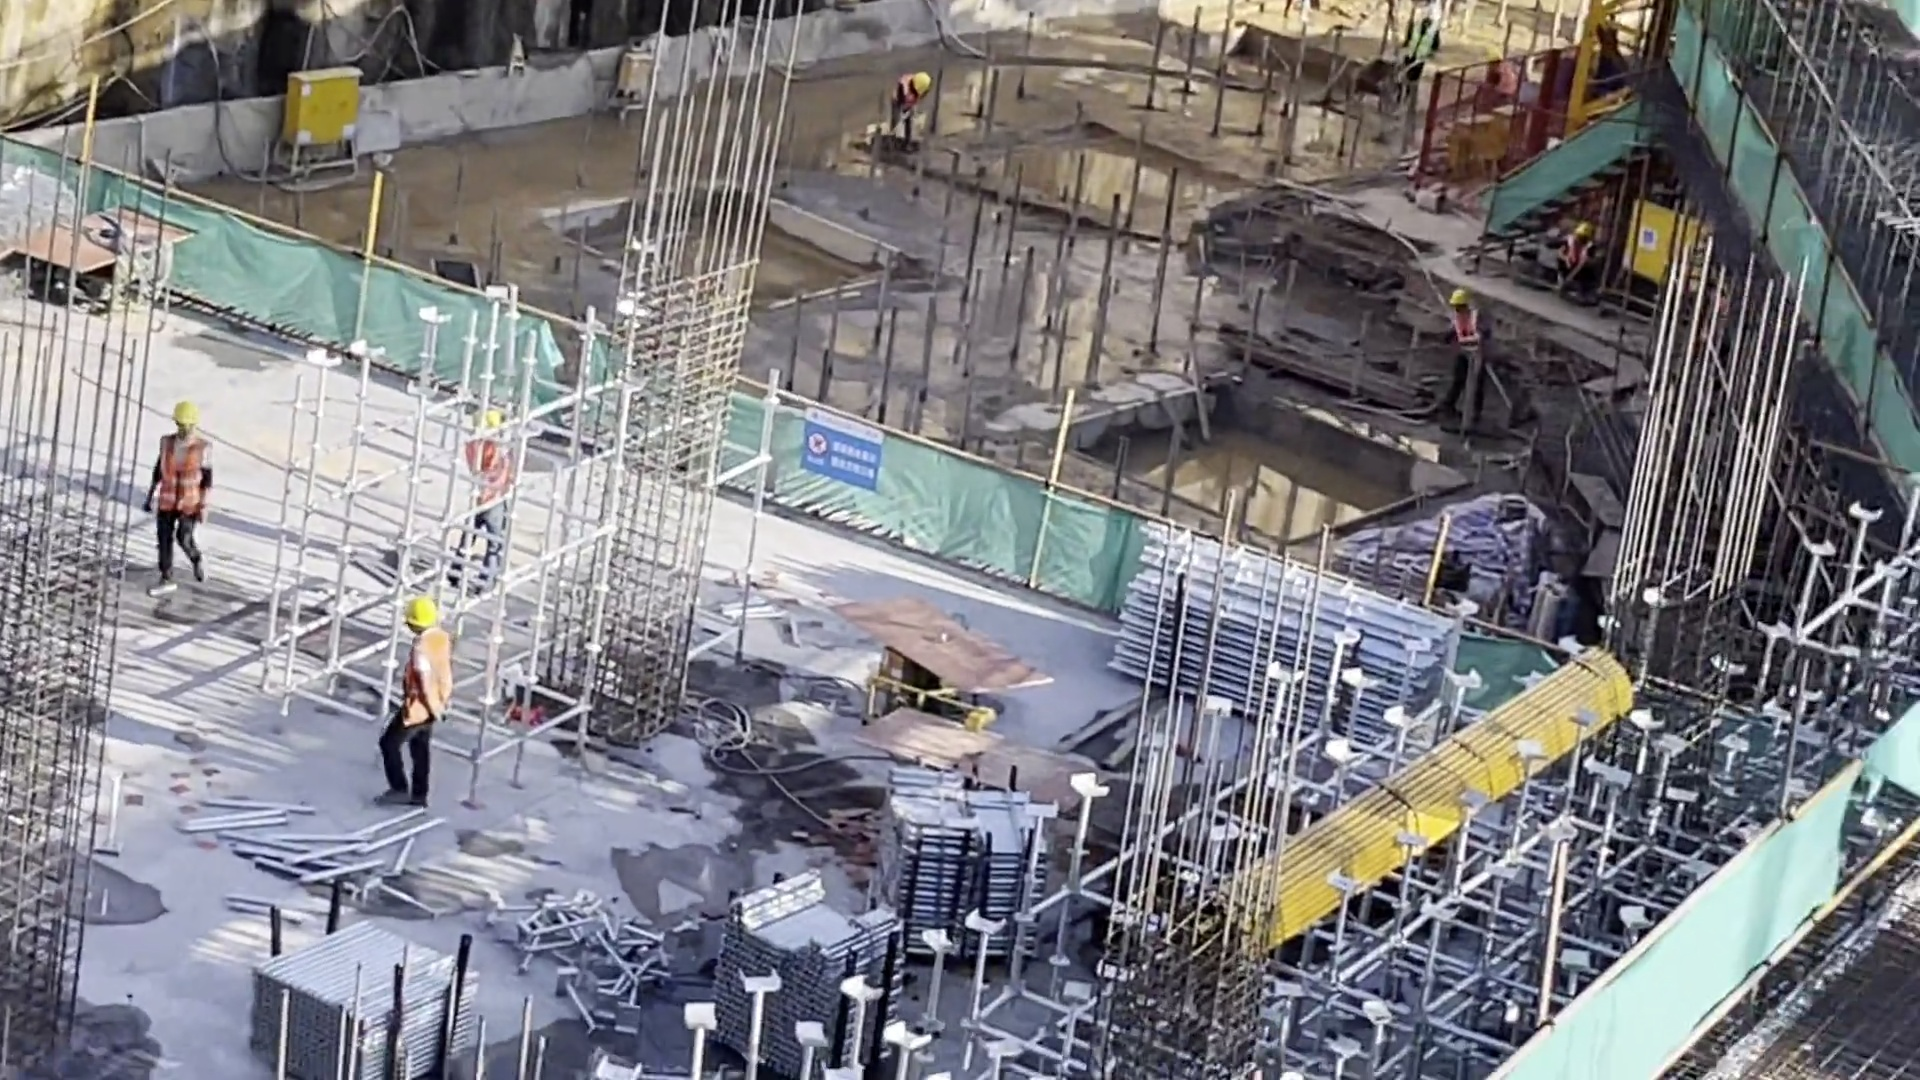cutter: (888, 703, 1082, 810), (874, 594, 1010, 692), (27, 213, 182, 296)
ebox: (274, 63, 350, 169), (1634, 209, 1692, 297), (627, 54, 654, 95)
helmet: (396, 598, 430, 629), (172, 403, 199, 427), (473, 410, 498, 432), (1448, 289, 1472, 306), (912, 71, 929, 96), (1575, 222, 1594, 237)
person: (382, 598, 458, 817), (140, 399, 211, 600), (446, 410, 511, 605), (1438, 286, 1488, 424), (1392, 4, 1442, 84), (1551, 223, 1603, 291), (889, 69, 928, 138)
scaffold: (1129, 571, 1448, 777), (715, 889, 905, 1080), (261, 931, 464, 1076), (901, 789, 1031, 909)
slogan: (795, 419, 886, 494)
vest: (405, 639, 453, 722), (155, 437, 203, 521), (471, 444, 510, 491), (1400, 26, 1434, 62), (1564, 238, 1592, 274), (1454, 314, 1479, 352), (896, 77, 916, 108)
